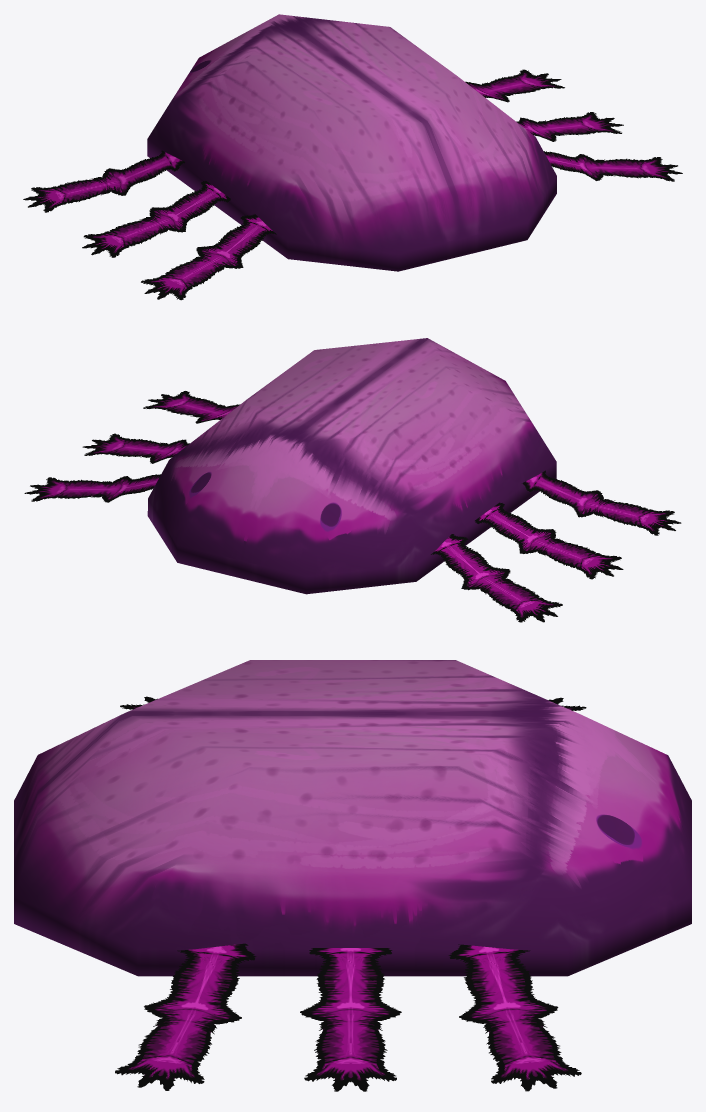
File: beetle.fbx
3 renders of one model, top to bottom at view 1: azimuth 30°, elevation 25°; view 2: azimuth 150°, elevation 25°; view 3: azimuth 270°, elevation 25°, orthographic. The views are drawn at different scales.
Visible parts, largest first — view 1: Beetle, BeetleLegBack.L, BeetleLegMid.L, BeetleLegFront.L, BeetleLegBack.R, BeetleLegMid.R, BeetleLegFront.R; view 2: Beetle, BeetleLegFront.L, BeetleLegMid.L, BeetleLegBack.L, BeetleLegFront.R, BeetleLegMid.R, BeetleLegBack.R; view 3: Beetle, BeetleLegBack.R, BeetleLegFront.R, BeetleLegMid.R.
Boxes of the visible parts, left/top/right/bottom form: Beetle: left=147, top=14, right=556, bottom=271; BeetleLegBack.L: left=141, top=214, right=276, bottom=300; BeetleLegMid.L: left=82, top=181, right=230, bottom=257; BeetleLegFront.L: left=23, top=150, right=184, bottom=212; BeetleLegBack.R: left=543, top=151, right=682, bottom=181; BeetleLegMid.R: left=516, top=112, right=623, bottom=141; BeetleLegFront.R: left=465, top=69, right=564, bottom=102; Beetle: left=147, top=338, right=556, bottom=594; BeetleLegFront.L: left=431, top=534, right=562, bottom=622; BeetleLegMid.L: left=475, top=502, right=623, bottom=579; BeetleLegBack.L: left=521, top=470, right=681, bottom=535; BeetleLegFront.R: left=24, top=474, right=160, bottom=502; BeetleLegMid.R: left=82, top=433, right=189, bottom=463; BeetleLegBack.R: left=143, top=391, right=239, bottom=423; Beetle: left=14, top=660, right=691, bottom=976; BeetleLegBack.R: left=115, top=943, right=256, bottom=1090; BeetleLegFront.R: left=448, top=944, right=581, bottom=1091; BeetleLegMid.R: left=300, top=948, right=401, bottom=1091.
Bounding box in the file's own units: 2.86 × 2 × 0.5842.
